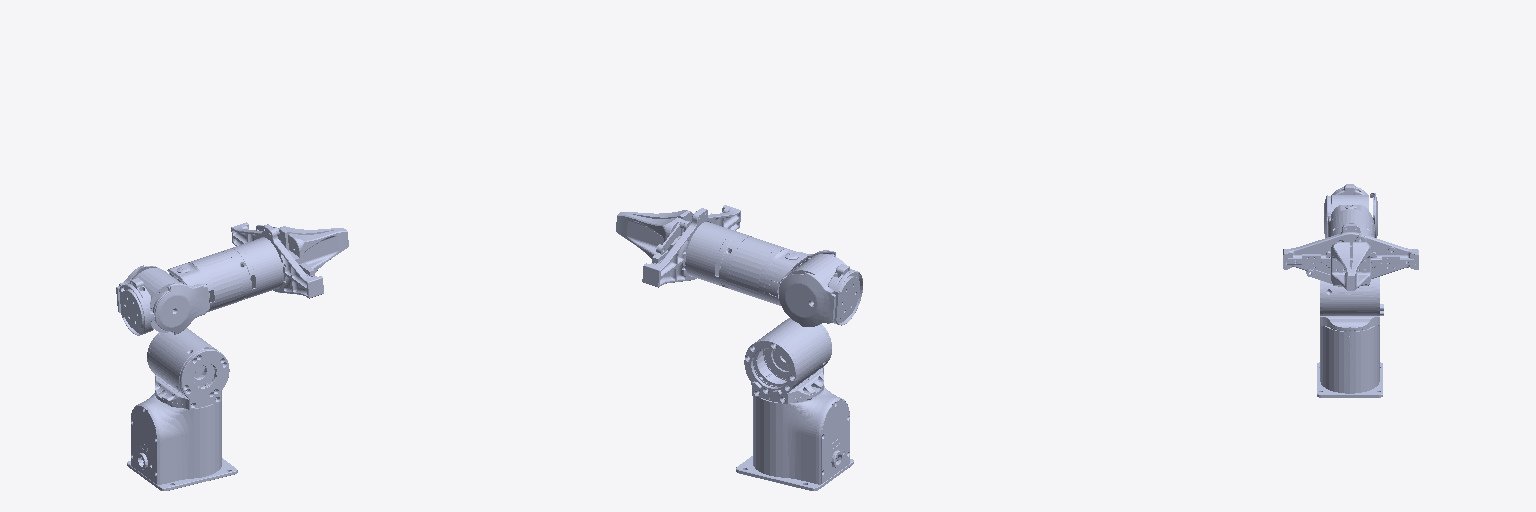
URDF robot description (piper_camera):
<?xml version="1.0"?>
<robot xmlns:xacro="http://www.ros.org/wiki/xacro" name="piper_camera">
    <link name="arm_base">
        <inertial>
        <origin
            xyz="-0.00979274765955341 1.82905827587138E-06 0.0410100126360189"
            rpy="0 0 0" />
        <mass value="0.162548567403693" />
        <inertia
            ixx="0.000226596924525071"
            ixy="-7.33972270153965E-08"
            ixz="2.13249977802622E-06"
            iyy="0.000269444772561524"
            iyz="8.15169009611054E-09"
            izz="0.000222318258878636" />
        </inertial>
        <visual>
        <origin xyz="0 0 0" rpy="0 0 0" />
        <geometry>
            <mesh filename="package://piper_description/meshes/dae/base_link.dae" />
        </geometry>
        <material name="">
            <color rgba="0.792156862745098 0.819607843137255 0.933333333333333 1" />
        </material>
        </visual>
        <collision>
            <origin xyz="0 0 0" rpy="0 0 0" />
            <geometry>
                <mesh filename="package://piper_description/meshes/base_link.STL" />
            </geometry>
        </collision>
    </link>

    <link name="link1">
        <inertial>
        <origin
            xyz="0.00131676031927024 0.000310288842008612 -0.00922874512303437"
            rpy="0 0 0" />
        <mass value="0.0978679932242825" />
        <inertia
            ixx="7.76684558296782E-05"
            ixy="1.09084650459924E-07"
            ixz="-1.9748053243241E-06"
            iyy="9.24967780161547E-05"
            iyz="9.91284646834582E-07"
            izz="8.24589062407807E-05" />
        </inertial>
        <visual>
        <origin xyz="0 0 0" rpy="0 0 0" />
        <geometry>
            <mesh filename="package://piper_description/meshes/dae/link1.dae" />
        </geometry>
        <material name="">
            <color rgba="0.792156862745098 0.819607843137255 0.933333333333333 1" />
        </material>
        </visual>
        <collision>
            <origin xyz="0 0 0" rpy="0 0 1.5708" />
            <geometry>
                <mesh filename="package://piper_description/meshes/link1.STL" />
            </geometry>
        </collision>
    </link>
    <joint name="joint1" type="revolute">
        <origin xyz="0 0 0.123" rpy="0 0 -1.5708" />
        <parent link="arm_base" />
        <child link="link1" />
        <axis xyz="0 0 1" />
        <limit lower="-2.618" upper="2.618" effort="100" velocity="3" />
    </joint>

    <link name="link2">
        <inertial>
        <origin
            xyz="0.148793602378802 -0.00242026983944119 0.00175154638467948"
            rpy="0 0 0" />
        <mass value="0.290888938633388" />
        <inertia
            ixx="0.000148959640166183"
            ixy="-7.37750384371657E-05"
            ixz="-9.68688405196236E-07"
            iyy="0.00172800946632652"
            iyz="-1.09692225564224E-06"
            izz="0.0017754628344594" />
        </inertial>
        <visual>
        <origin xyz="0 0 0" rpy="0 0 0" />
        <geometry>
            <mesh filename="package://piper_description/meshes/dae/link2.dae" />
        </geometry>
        <material name="">
            <color rgba="0.792156862745098 0.819607843137255 0.933333333333333 1" />
        </material>
        </visual>
        <collision>
            <origin xyz="0 0 0" rpy="0 0 0.1" />
            <geometry>
                <mesh filename="package://piper_description/meshes/link2.STL" />
            </geometry>
        </collision>
    </link>
    <joint name="joint2" type="revolute">
        <origin xyz="0 0 0" rpy="1.5708 -0.034907 -1.5708" />
        <parent link="link1" />
        <child link="link2" />
        <axis xyz="0 0 1" />
        <limit lower="0" upper="3.14" effort="100" velocity="3" />
    </joint>

    <link name="link3">
        <inertial>
        <origin
            xyz="-0.0996835215213704 0.0349477226691318 0.000508025815507312"
            rpy="0 0 0" />
        <mass value="0.290847697793211" />
        <inertia
            ixx="0.000107879011637167"
            ixy="2.92669521203626E-05"
            ixz="6.825922326238E-07"
            iyy="0.000214751671792086"
            iyz="-7.78469047878196E-07"
            izz="0.000241923439340319" />
        </inertial>
        <visual>
        <origin xyz="0 0 0" rpy="0 0 0" />
        <geometry>
            <mesh filename="package://piper_description/meshes/dae/link3.dae" />
        </geometry>
        <material name="">
            <color rgba="0.792156862745098 0.819607843137255 0.933333333333333 1" />
        </material>
        </visual>
        <collision>
        <origin xyz="0 0 0" rpy="0 0 -1.75" />
        <geometry>
            <mesh filename="package://piper_description/meshes/link3.STL" />
        </geometry>
        </collision>
    </link>
    <joint name="joint3" type="revolute">
        <origin xyz="0.28358 0.028726 0" rpy="0 0 0.06604341" />
        <parent link="link2" />
        <child link="link3" />
        <axis xyz="0 0 1" />
        <limit lower="-2.697" upper="0" effort="100" velocity="3" />
    </joint>

    <link name="link4">
        <inertial>
        <origin
            xyz="0.000276464622387979 -0.00102803669324875 -0.00472830700561663"
            rpy="0 0 0" />
        <mass value="0.127087348341362" />
        <inertia
            ixx="3.82011730423416E-05"
            ixy="-4.92358350897513E-08"
            ixz="4.89589432973119E-08"
            iyy="4.87048555222578E-05"
            iyz="6.70802942500512E-08"
            izz="4.10592077565559E-05" />
        </inertial>
        <visual>
        <origin xyz="0 0 0" rpy="0 0 0" />
        <geometry>
            <mesh filename="package://piper_description/meshes/dae/link4.dae" />
        </geometry>
        <material name="">
            <color rgba="0.792156862745098 0.819607843137255 0.933333333333333 1" />
        </material>
        </visual>
        <collision>
        <origin xyz="0 0 0" rpy="0 0 0" />
        <geometry>
            <mesh filename="package://piper_description/meshes/link4.STL" />
        </geometry>
        </collision>
    </link>
    <joint name="joint4" type="revolute">
        <origin xyz="-0.24221 0.068514 0" rpy="-1.5708 0 1.3826" />
        <parent link="link3" />
        <child link="link4" />
        <axis xyz="0 0 1" />
        <limit lower="-1.832" upper="1.832" effort="100" velocity="3" />
    </joint>

    <link name="link5">
        <inertial>
        <origin
            xyz="8.82262433516967E-05 0.0566829014808256 -0.00196119720482461"
            rpy="0 0 0" />
        <mass value="0.144711242639457" />
        <inertia
            ixx="4.39644313662493E-05"
            ixy="-3.59259686444846E-08"
            ixz="-1.89747741386183E-08"
            iyy="5.63173920951307E-05"
            iyz="-2.1540716689785E-07"
            izz="4.88713664675268E-05" />
        </inertial>
        <visual>
        <origin xyz="0 0 0" rpy="0 0 0" />
        <geometry>
            <mesh filename="package://piper_description/meshes/dae/link5.dae" />
        </geometry>
        <material name="">
            <color rgba="0.792156862745098 0.819607843137255 0.933333333333333 1" />
        </material>
        </visual>
        <collision>
        <origin xyz="0 0 0" rpy="0 0 -3.14" />
        <geometry>
            <mesh filename="package://piper_description/meshes/link5.STL" />
        </geometry>
        </collision>
    </link>
    <joint name="joint5" type="revolute">
        <origin xyz="0 0 0" rpy="1.5708 0 0" />
        <parent link="link4" />
        <child link="link5" />
        <axis xyz="0 0 1" />
        <limit lower="-1.22" upper="1.22" effort="100" velocity="3" />
    </joint>

    <link name="link6">
        <inertial>
        <origin
            xyz="0.00103120214523473 0.0121761387587524 0.0315480874960164"
            rpy="0 0 0" />
        <mass value="0.195187143240719" />
        <inertia
            ixx="6.43790256535539E-05"
            ixy="-1.2366166157046E-06"
            ixz="1.97664606328472E-07"
            iyy="0.000126146396374301"
            iyz="2.41157078516408E-06"
            izz="0.000154087076816444" />
        </inertial>
        <visual>
        <origin xyz="-0.002 -0.0078 0.06" rpy="-1.57 0 0" />
        <geometry>
            <mesh filename="package://piper_description/meshes/dae/gripper_base_100_v2.dae"/>
        </geometry>
        <material name="">
            <color rgba="0.792156862745098 0.819607843137255 0.933333333333333 1" />
        </material>
        </visual>
        <collision>
        <origin xyz="-0.002 -0.0078 0.06" rpy="-1.57 0 0" />
        <geometry>
            <mesh filename="package://piper_description/meshes/dae/gripper_base_100_v2.dae"/>
        </geometry>
        </collision>
    </link>
    <joint name="joint6" type="revolute">
        <origin xyz="0 0.091 0.0014165" rpy="-1.5708 -1.5708 0" />
        <parent link="link5" />
        <child link="link6" />
        <axis xyz="0 0 1" />
        <limit lower="-3.14" upper="3.14" effort="100" velocity="3" />
    </joint>

    <link name="link7">
        <inertial>
        <origin
            xyz="-0.000277778383727112 -0.0467673043650824 -0.00921029491873201"
            rpy="0 0 0" />
        <mass value="0.02648229234527" />
        <inertia
            ixx="9.99787479924589E-06"
            ixy="-1.57548495096104E-07"
            ixz="-2.71342775003487E-08"
            iyy="6.1795212293655E-06"
            iyz="-1.58939803580081E-06"
            izz="1.42102717246564E-05" />
        </inertial>
        <visual>
        <origin xyz="0 0 0" rpy="0 0 0" />
        <geometry>
            <mesh filename="package://piper_description/meshes/dae/link7.dae" />
        </geometry>
        <material name="">
            <color rgba="0.792156862745098 0.819607843137255 0.933333333333333 1" />
        </material>
        </visual>
        <collision>
        <origin xyz="-0.001 0 0.0003" rpy="0 3.14 0" />
        <geometry>
            <mesh filename="package://piper_description/meshes/link7.STL" />
        </geometry>
        </collision>
    </link>
    <joint name="joint7" type="prismatic">
        <origin xyz="0 0 0.13503" rpy="1.5708 0 1.5708" />
        <parent link="link6" />
        <child link="link7" />
        <axis xyz="0 0 -1" />
        <limit lower="0" upper="0.05" effort="100" velocity="1" />
    </joint>

    <link name="link8">
        <inertial>
        <origin
            xyz="0.000277816920932317 0.0467673824063769 -0.00921030054508036"
            rpy="0 0 0" />
        <mass value="0.0264822021416248" />
        <inertia
            ixx="9.99779119357223E-06"
            ixy="-1.57542283433504E-07"
            ixz="2.71367446701359E-08"
            iyy="6.17952441557932E-06"
            iyz="1.58939319453383E-06"
            izz="1.4210192754512E-05" />
        </inertial>
        <visual>
        <origin xyz="0 0 0" rpy="0 0 0" />
        <geometry>
            <mesh filename="package://piper_description/meshes/dae/link8.dae" />
        </geometry>
        <material name="">
            <color rgba="0.792156862745098 0.819607843137255 0.933333333333333 1" />
        </material>
        </visual>
        <collision>
        <origin xyz="-0.001 0 0.0003" rpy="3.14 0 0" />
        <geometry>
            <mesh filename="package://piper_description/meshes/link8.STL" />
        </geometry>
        </collision>
    </link>
    <joint name="joint8" type="prismatic">
        <origin xyz="0 0 0.13503" rpy="-1.5708 0 1.5708" />
        <parent link="link6" />
        <child link="link8" />
        <axis xyz="0 0 1" />
        <limit lower="-0.05" upper="0" effort="100" velocity="1" />
    </joint>


</robot>

--- Render facts (derived) ---
The picture shows the robot from 3 angles, left to right: view 1: azimuth 30°, elevation 25°; view 2: azimuth 150°, elevation 25°; view 3: azimuth 270°, elevation 25°; orthographic projection.
Model piper_camera with 9 links and 8 joints (6 revolute, 2 prismatic), rooted at arm_base, posed every joint at zero.
Visible links, largest first — view 1: arm_base, link1, link5, link6, link4, link7; view 2: arm_base, link1, link6, link4, link5, link8; view 3: arm_base, link6, link1, link5, link4, link7, link8.
Boxes of the visible links, x1=… form: arm_base: x1=127, y1=393, x2=237, y2=490; link1: x1=147, y1=328, x2=229, y2=409; link5: x1=153, y1=251, x2=244, y2=334; link6: x1=223, y1=222, x2=323, y2=299; link4: x1=116, y1=265, x2=180, y2=335; link7: x1=288, y1=229, x2=348, y2=272; arm_base: x1=736, y1=386, x2=853, y2=490; link1: x1=744, y1=318, x2=831, y2=403; link6: x1=642, y1=205, x2=751, y2=288; link4: x1=779, y1=254, x2=862, y2=326; link5: x1=726, y1=237, x2=845, y2=305; link8: x1=616, y1=213, x2=680, y2=258; arm_base: x1=1317, y1=325, x2=1382, y2=397; link6: x1=1283, y1=220, x2=1418, y2=286; link1: x1=1320, y1=277, x2=1383, y2=331; link5: x1=1324, y1=195, x2=1374, y2=237; link4: x1=1331, y1=184, x2=1377, y2=237; link7: x1=1331, y1=242, x2=1350, y2=290; link8: x1=1351, y1=242, x2=1370, y2=290.
Size in the robot's own frame: 0.3502 by 0.3363 by 0.4915 metres.
7 mesh visuals loaded from 9 distinct referenced files (7 Collada DAE); not drawn: 2 (reference not matched to a file when rendering).